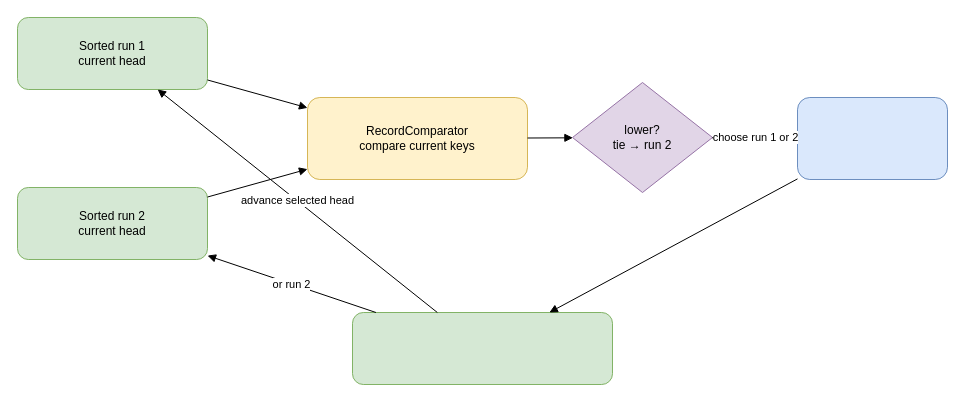
This 965x402 diagram has some shape labels left out. The shapes that lost their labels are listed below. From the top down, each one's centre as x and y in pixels, then its label:
pixel 872 138: query.Scan return chosen row
pixel 482 348: Advance chosen run on the next Next()
